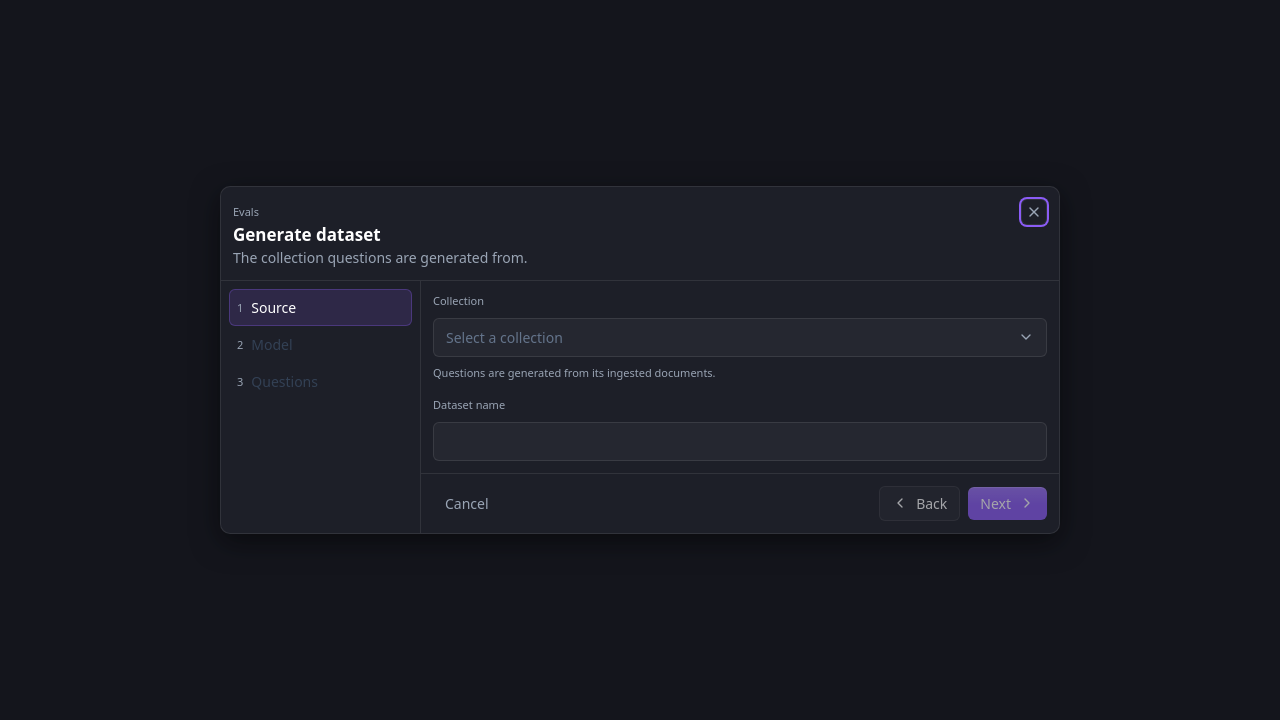
GenerateDatasetWizard › keeps the questions step unreachable from the step list until a model is chosen
Check: the button "2 Model" is disabled, box [229,326,412,363]
Check: the button "3 Questions" is disabled, box [229,363,412,400]
Click the dropdown labelled "collection": [504, 337] box [433,318,1047,357]
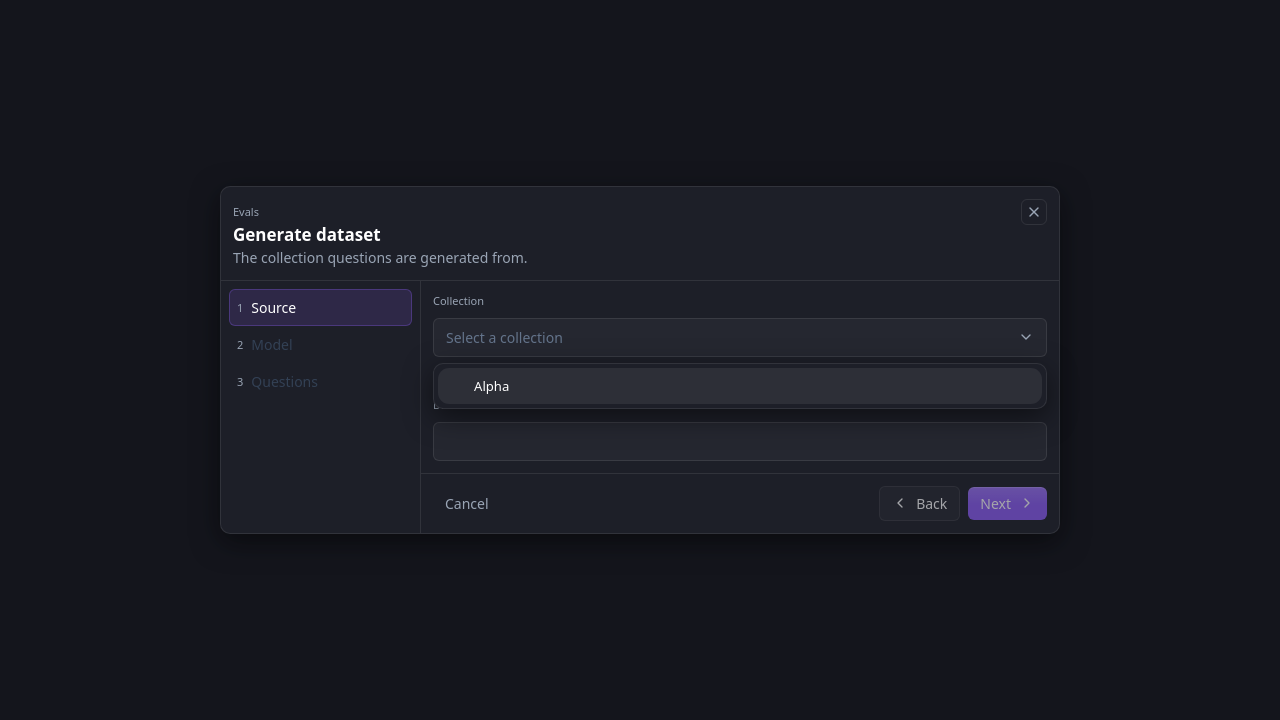
Click the option "Alpha": [492, 386] box [438,368,1042,404]
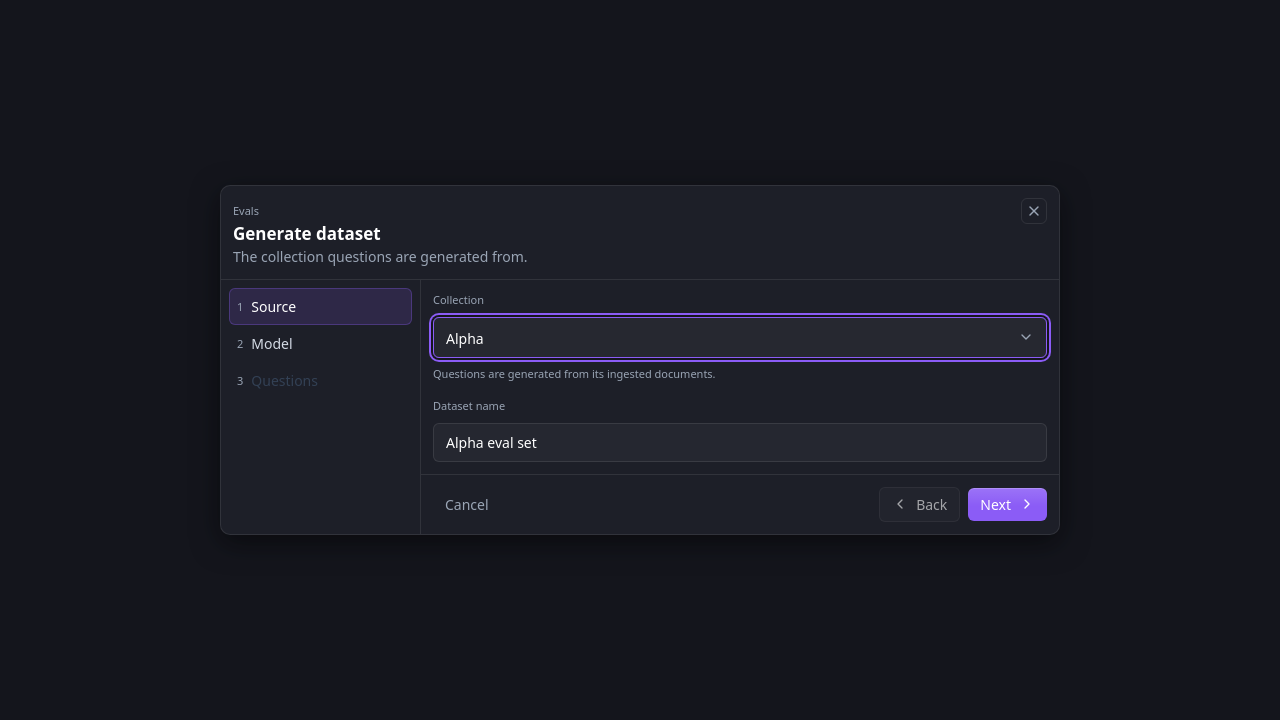
Check: the button "3 Questions" is disabled, box [229,362,412,399]
Check: the button "2 Model" is enabled, box [229,325,412,362]
